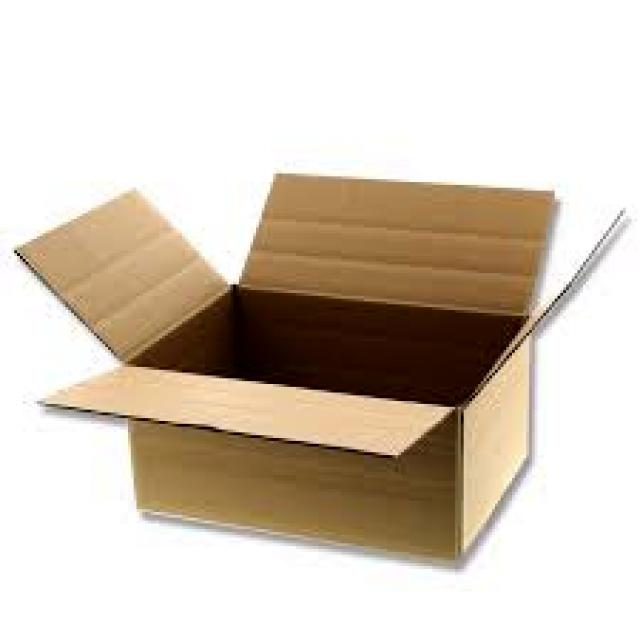Cardboard: (10, 169, 631, 567)
